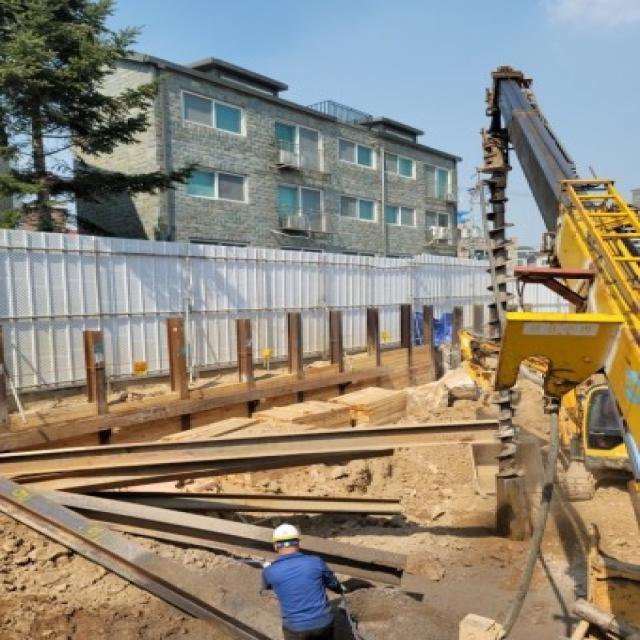pile: (484, 174, 524, 478)
plant: (0, 0, 200, 232)
steel: (0, 474, 280, 640), (19, 485, 408, 585), (0, 419, 500, 476), (8, 449, 394, 491), (73, 491, 403, 514)
